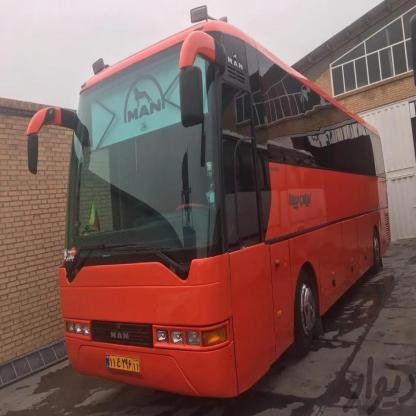Bus: (48, 13, 394, 400)
